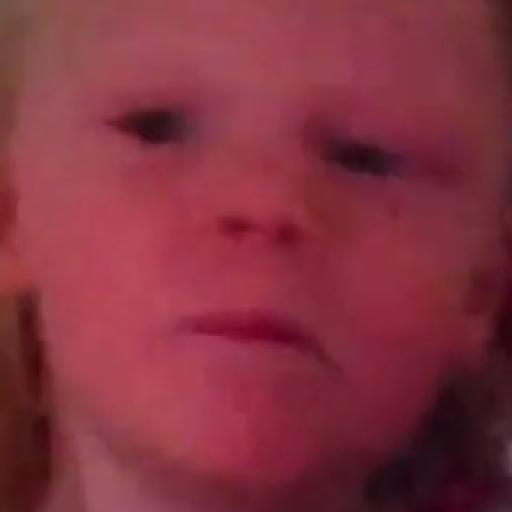Autism: (30, 10, 492, 486)
